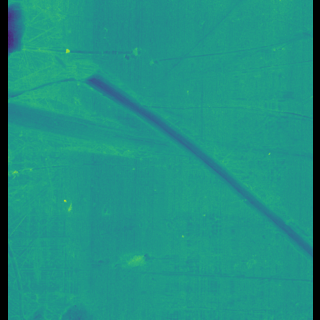Loch: (61, 51, 305, 284), (15, 0, 85, 320), (14, 89, 174, 165), (149, 24, 308, 67), (114, 244, 158, 279)
